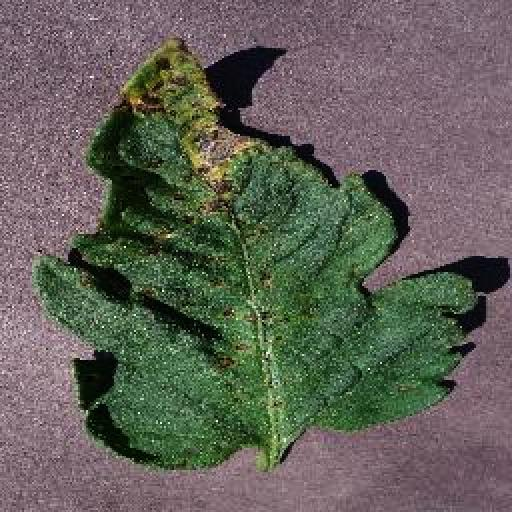disease_tomato: (36, 25, 478, 475)
